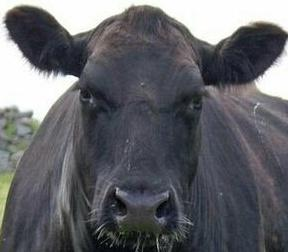muzzles: (94, 180, 187, 244)
